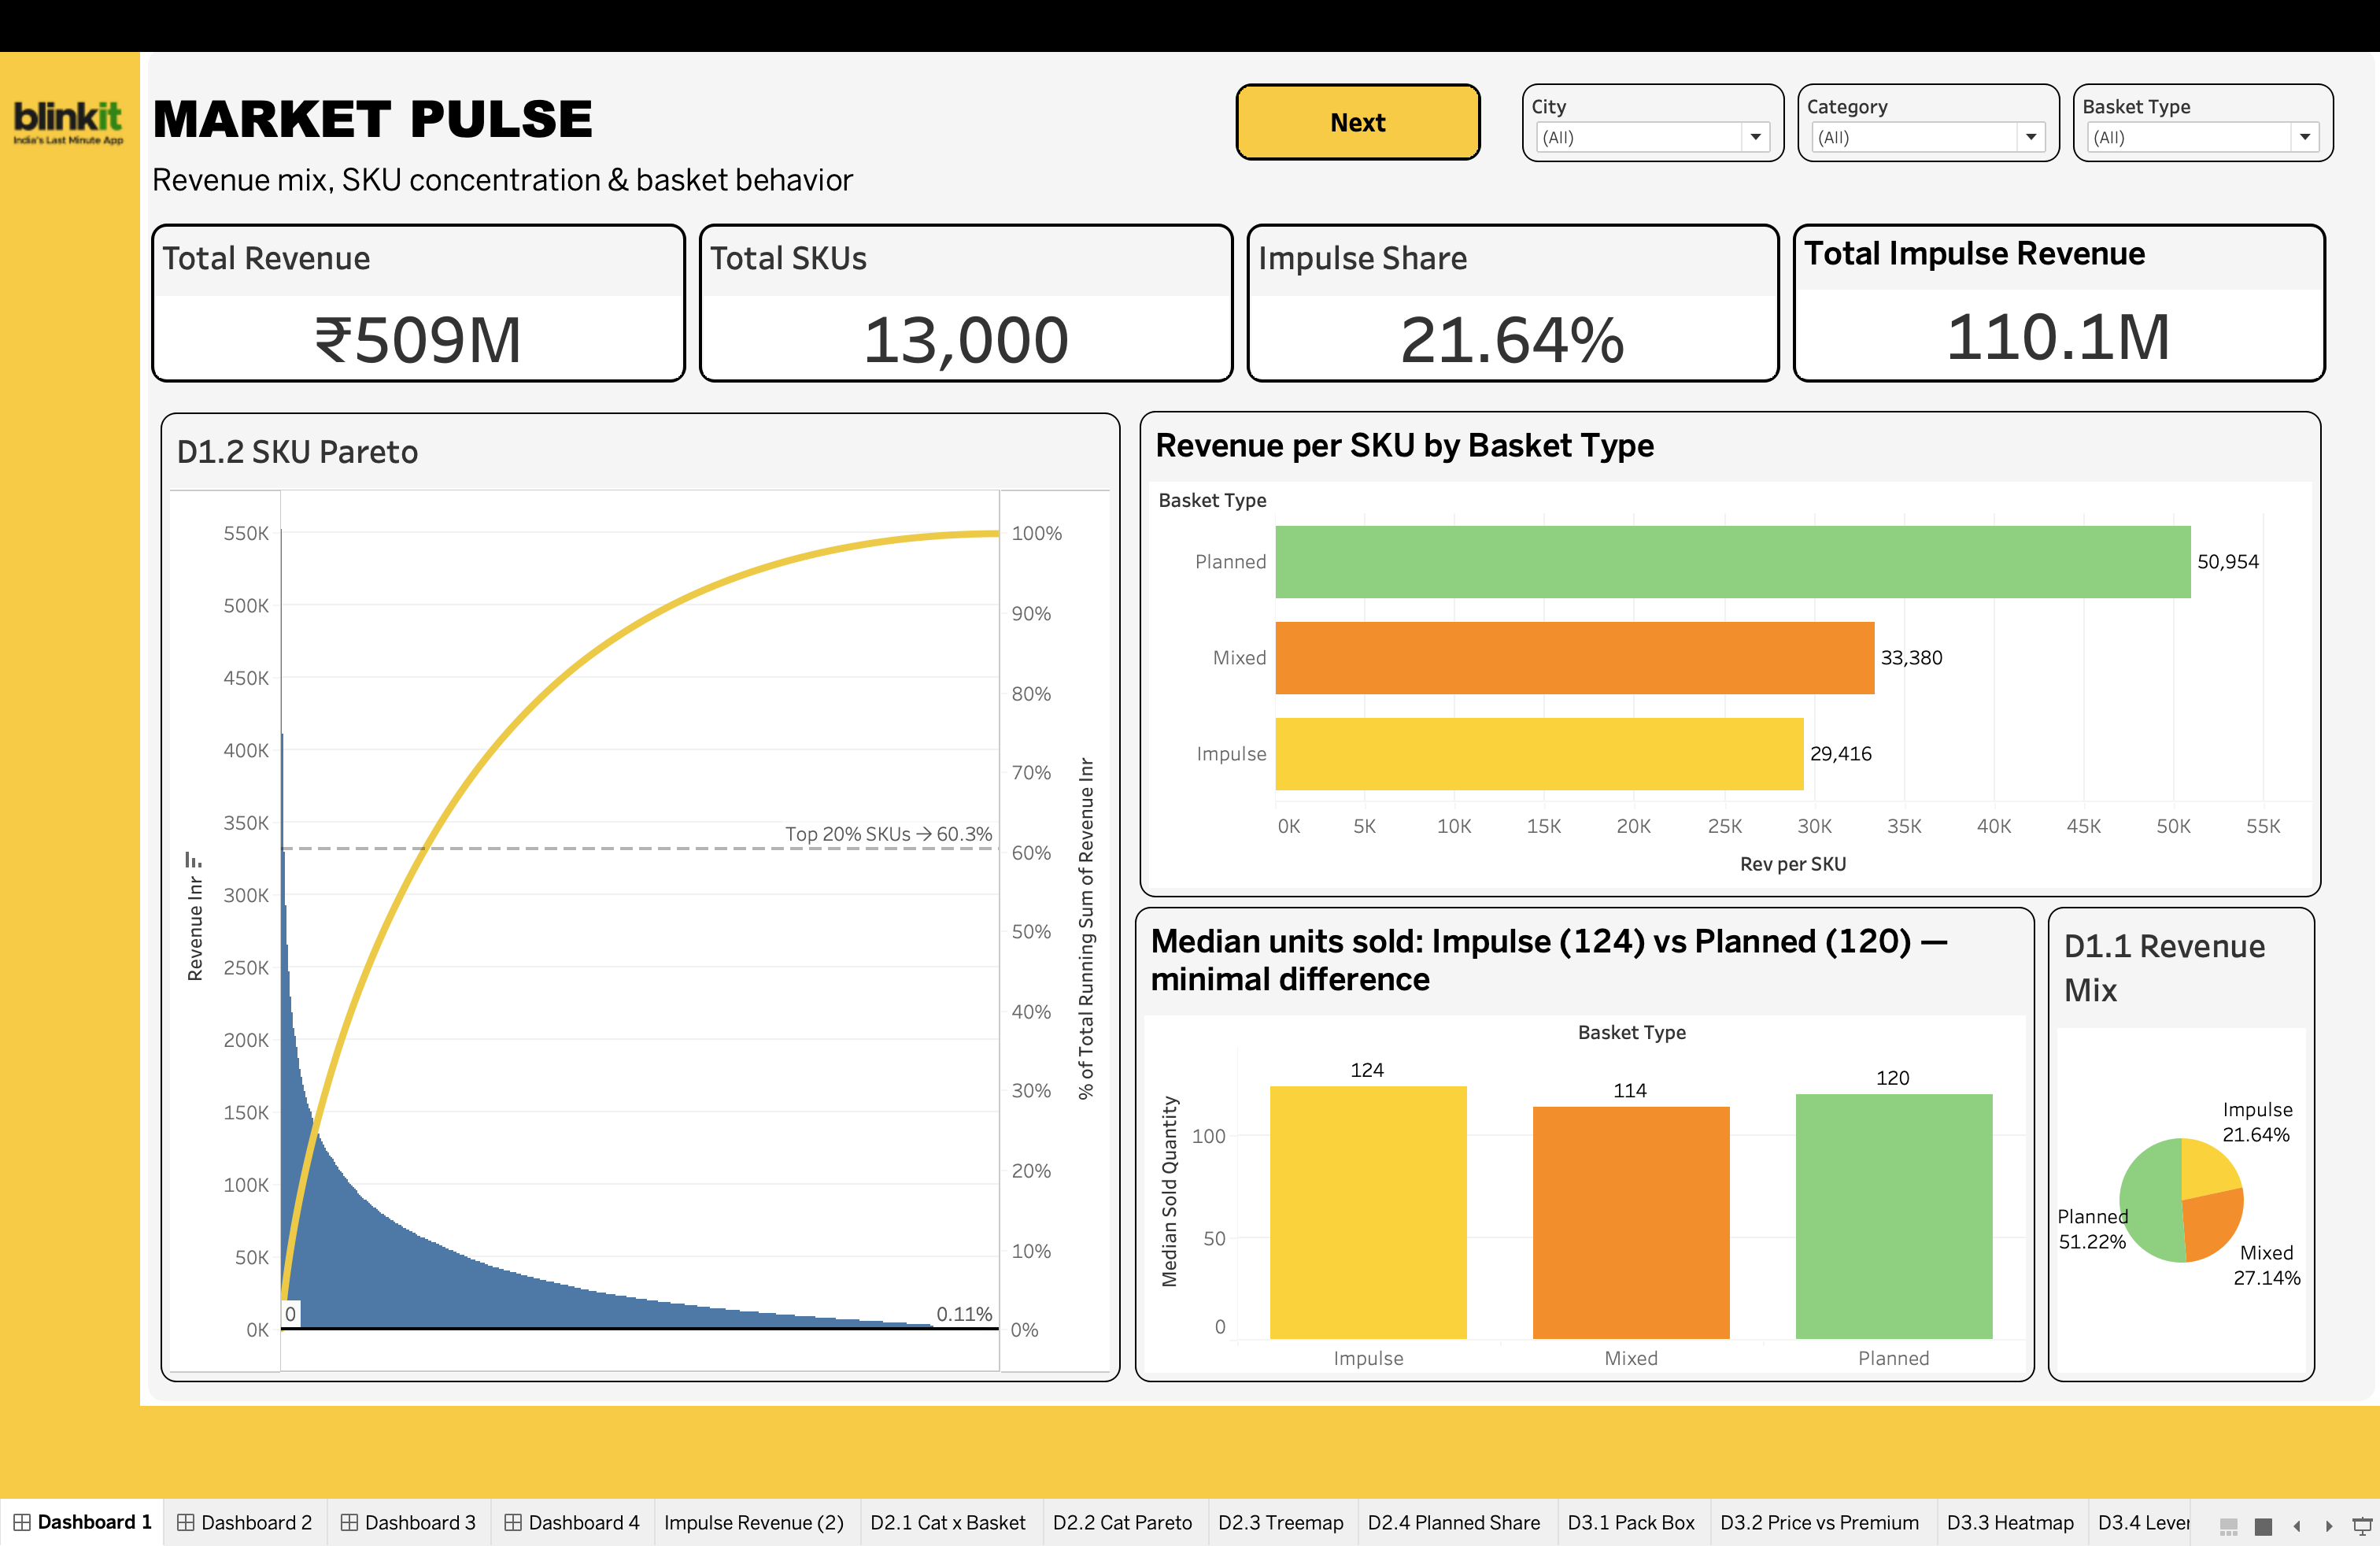

The page's visual inventory and layout, read from the dashboard file:
{"tool":"tableau","page":{"name":"Dashboard 1","canvas":[1000,1000],"units":"permille","ordinal":0},"visuals":[{"type":"legend","title":"D1.1 Revenue Mix","param":"[federated.1gpcg0c0e061zu141y02x0jg0170].[sum:revenue_inr:qk]","box":[894.3,7.7,100.7,44.3]},{"type":"filter","title":"D1.1 Revenue Mix","param":"[federated.1gpcg0c0e061zu141y02x0jg0170].[none:city:nk]","box":[636.9,17.3,115.8,62.6]},{"type":"filter","title":"D1.1 Revenue Mix","param":"[federated.1gpcg0c0e061zu141y02x0jg0170].[none:category:nk]","box":[752.7,17.3,115.8,62.6]},{"type":"filter","title":"D1.1 Revenue Mix","param":"[federated.1gpcg0c0e061zu141y02x0jg0170].[none:basket_type:nk]","box":[868.5,17.3,115.2,62.6]},{"type":"dashboard-object","box":[519.2,21.6,103.2,53.6]},{"type":"text","box":[62.3,23.7,193.2,42.2]},{"type":"legend","title":"D1.1 Revenue Mix","param":"[federated.1gpcg0c0e061zu141y02x0jg0170].[none:basket_type:nk]","box":[894.3,52,100.7,82.9]},{"type":"text","box":[62.3,73.1,377.6,28.8]},{"type":"worksheet","title":"Total Revenue","mark":"Text","box":[61,114.6,229.7,118.5]},{"type":"worksheet","title":"Total SKUs","mark":"Automatic","box":[290.8,114.6,229.7,118.5]},{"type":"worksheet","title":"Impulse Share","mark":"Automatic","box":[520.5,114.6,229.7,118.5]},{"type":"worksheet","title":"Impulse Revenue","mark":"Automatic","box":[750.2,114.6,229.7,118.5]},{"type":"legend","title":"D1.2 SKU Pareto","param":"[federated.1gpcg0c0e061zu141y02x0jg0170].[:Measure Names]","box":[894.3,134.9,100.7,63.6]},{"type":"worksheet","title":"D1.3 Rev per SKU","mark":"Automatic","rows":["basket_type"],"cols":["Calculation_3854677563584519"],"box":[476.4,244.1,502.2,345]},{"type":"worksheet","title":"D1.2 SKU Pareto","mark":"Automatic","rows":["revenue_inr","revenue_inr"],"cols":["product_id"],"box":[64.8,245.1,409.1,678.7]},{"type":"worksheet","title":"D1.4 Myth","mark":"Bar","rows":["sold_quantity"],"cols":["basket_type"],"box":[474.5,587,365,337.8]},{"type":"worksheet","title":"D1.1 Revenue Mix","mark":"Pie","box":[839.5,587,136.6,337.8]},{"type":"blank","box":[1.3,935.5,1000.6,65.5]}]}

Visuals, with their boxes on the dashboard's canvas, which has no fixed pixel size, in thousandths of its width and height (x1, y1, x2, y2). These are canvas units, not pixel positions in the 2380x1546 screenshot, which may show the page scaled, cropped or inside an application window:
"D1.1 Revenue Mix" legend: x1=894, y1=8, x2=995, y2=52
"D1.1 Revenue Mix" filter: x1=637, y1=17, x2=753, y2=80
"D1.1 Revenue Mix" filter: x1=753, y1=17, x2=868, y2=80
"D1.1 Revenue Mix" filter: x1=868, y1=17, x2=984, y2=80
dashboard-object: x1=519, y1=22, x2=622, y2=75
text: x1=62, y1=24, x2=256, y2=66
"D1.1 Revenue Mix" legend: x1=894, y1=52, x2=995, y2=135
text: x1=62, y1=73, x2=440, y2=102
"Total Revenue" worksheet (Text marks): x1=61, y1=115, x2=291, y2=233
"Total SKUs" worksheet: x1=291, y1=115, x2=520, y2=233
"Impulse Share" worksheet: x1=520, y1=115, x2=750, y2=233
"Impulse Revenue" worksheet: x1=750, y1=115, x2=980, y2=233
"D1.2 SKU Pareto" legend: x1=894, y1=135, x2=995, y2=198
"D1.3 Rev per SKU" worksheet: x1=476, y1=244, x2=979, y2=589
"D1.2 SKU Pareto" worksheet: x1=65, y1=245, x2=474, y2=924
"D1.4 Myth" worksheet (Bar marks): x1=474, y1=587, x2=840, y2=925
"D1.1 Revenue Mix" worksheet (Pie marks): x1=840, y1=587, x2=976, y2=925
blank: x1=1, y1=936, x2=1002, y2=1001
